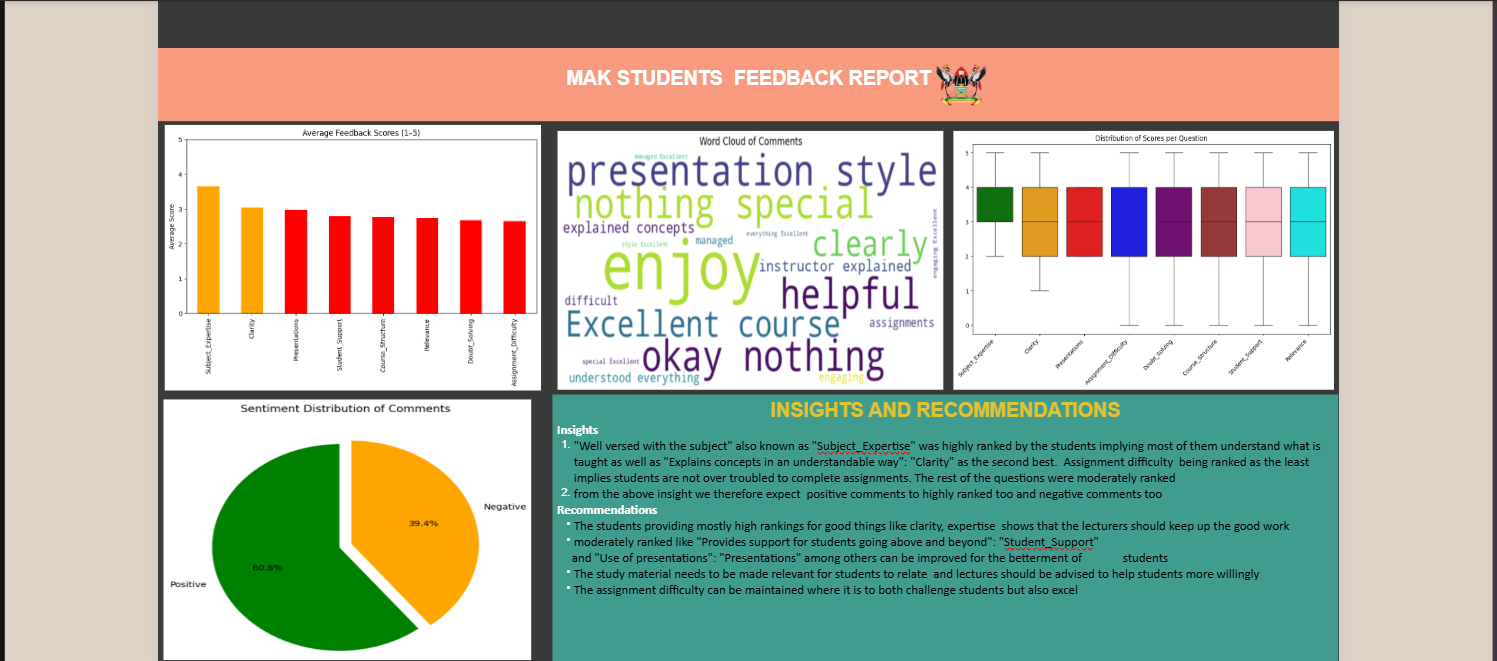

Layout of this report page (visuals, bound fields, positions):
{"tool":"powerbi","page":{"name":"Page 1","canvas":[1280,720],"ordinal":0},"visuals":[{"type":"textbox","box":[0,51.4,1280.5,79.5],"z":0},{"type":"image","box":[829.9,51.4,82.8,79.5],"z":1000},{"type":"image","box":[0,130.9,422.4,298.2],"z":2000},{"type":"image","box":[857.2,136.6,422.9,291.2],"z":4000},{"type":"textbox","box":[427.8,427.8,852.3,292.8],"z":6000},{"type":"image","box":[0,427.8,409.9,292.8],"z":6001},{"type":"image","box":[427.8,136.6,429.4,291.2],"z":6002}]}

Visuals, with their boxes in screenshot pixels (x1, y1, x2, y2):
textbox: pyautogui.locateOnScreen(160, 47, 1322, 119)
image: pyautogui.locateOnScreen(913, 47, 988, 119)
image: pyautogui.locateOnScreen(160, 119, 543, 390)
image: pyautogui.locateOnScreen(938, 124, 1322, 388)
textbox: pyautogui.locateOnScreen(548, 388, 1322, 654)
image: pyautogui.locateOnScreen(160, 388, 532, 654)
image: pyautogui.locateOnScreen(548, 124, 938, 388)
